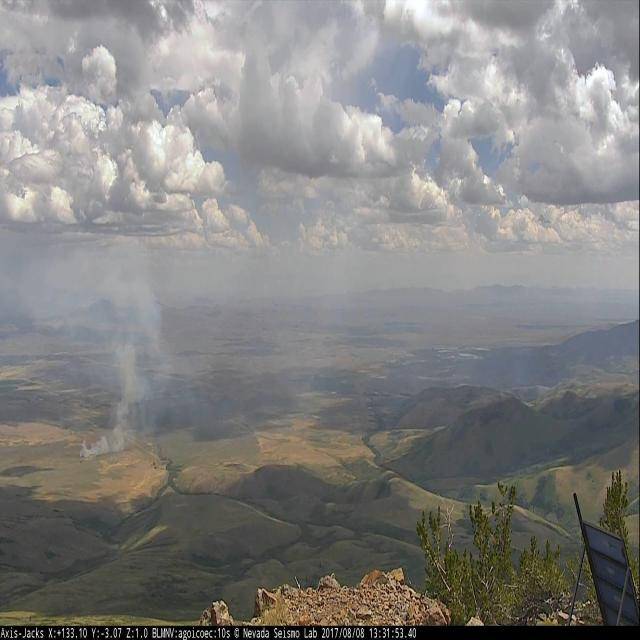smoke: (79, 264, 170, 458)
